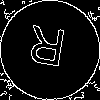R: (25, 25, 68, 76)
